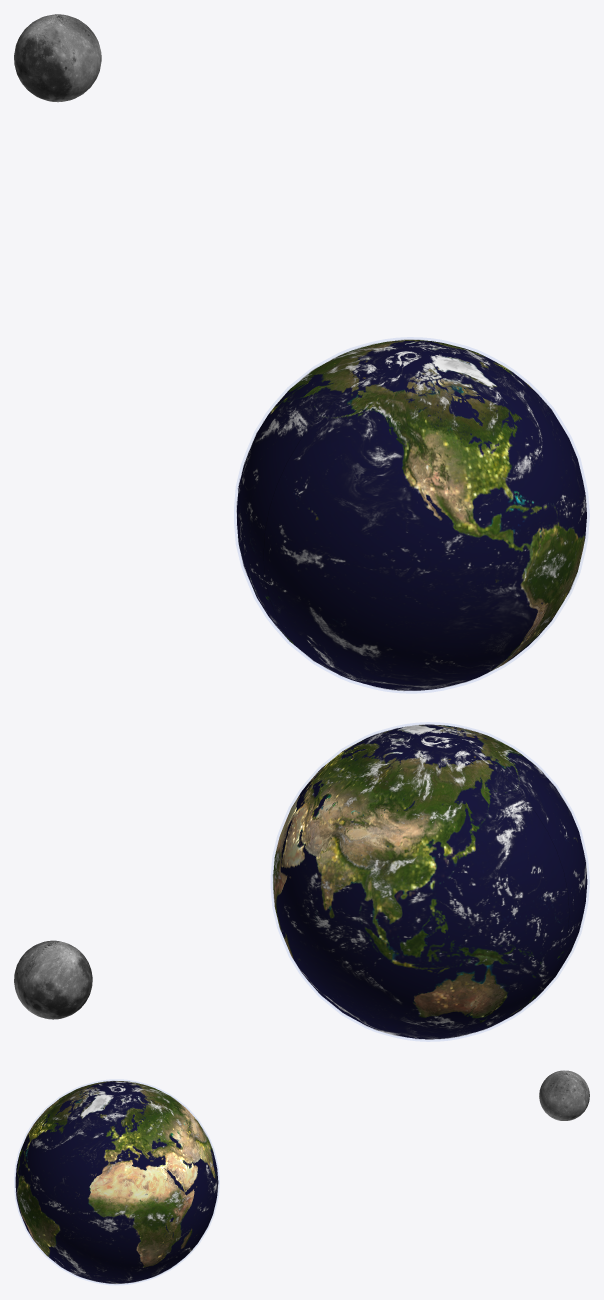
The model's file is earth.glb.
3 renders of one model, top to bottom at view 1: azimuth 30°, elevation 25°; view 2: azimuth 150°, elevation 25°; view 3: azimuth 270°, elevation 25°, orthographic. The views are drawn at different scales.
Parts seen in each view (by area): view 1: planet, clouds, moon; view 2: planet, clouds, moon; view 3: planet, clouds, moon.
Part boxes in pixels (bbox=[...]): planet: bbox=[237, 340, 586, 690]; clouds: bbox=[236, 339, 586, 690]; moon: bbox=[14, 14, 101, 102]; planet: bbox=[273, 724, 587, 1039]; clouds: bbox=[272, 724, 586, 1039]; moon: bbox=[14, 940, 92, 1019]; planet: bbox=[15, 1081, 218, 1283]; clouds: bbox=[15, 1080, 218, 1283]; moon: bbox=[539, 1070, 589, 1120].
Bounding box in the file's own units: 2.03 × 2.31 × 5.68.
Materials: 4 (3 with a texture image).
